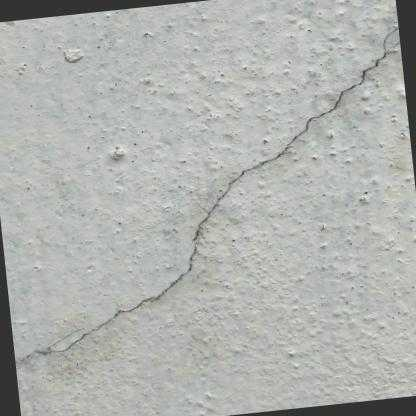crack: (15, 25, 398, 363)
